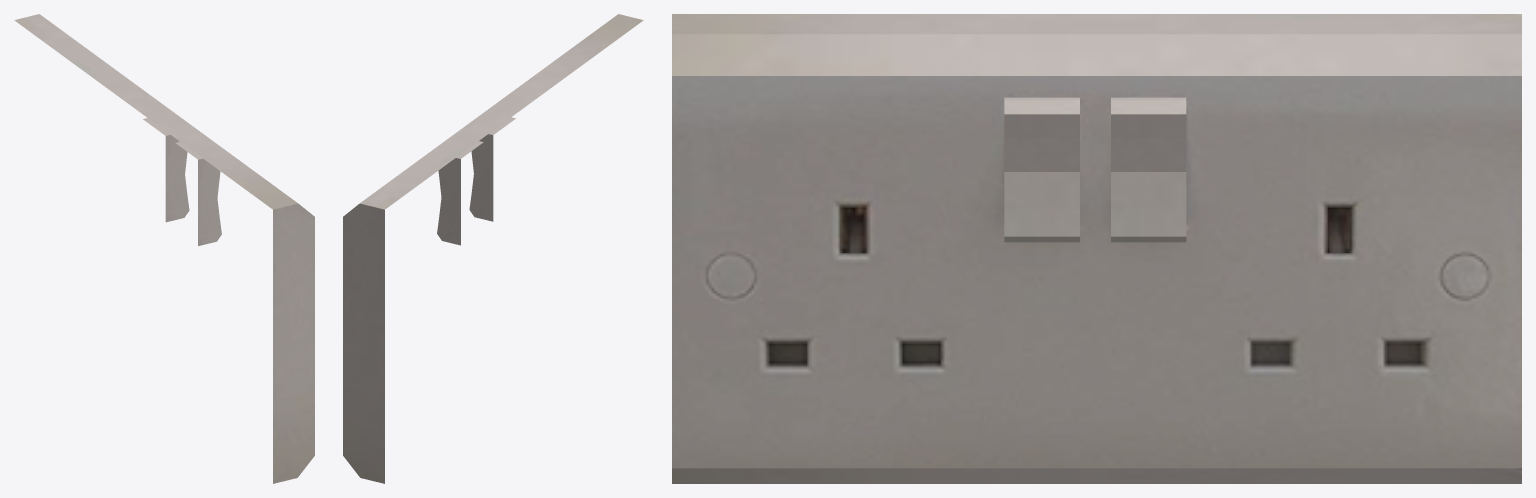
Rendered from Wall Socket.glb.
3 renders of one model, left to right at view 1: azimuth 30°, elevation 25°; view 2: azimuth 150°, elevation 25°; view 3: azimuth 270°, elevation 25°, orthographic. The views are drawn at different scales.
Parts seen in each view (by area): view 1: wallSocket; view 2: wallSocket; view 3: wallSocket.
Part boxes in pixels (x1,y1,x2,y2): wallSocket: (14,14,314,483); wallSocket: (343,14,643,483); wallSocket: (672,14,1521,483).
Size of the model in its own units: 0.0458 by 0.2388 by 0.4085.
1 material, 1 textured.
